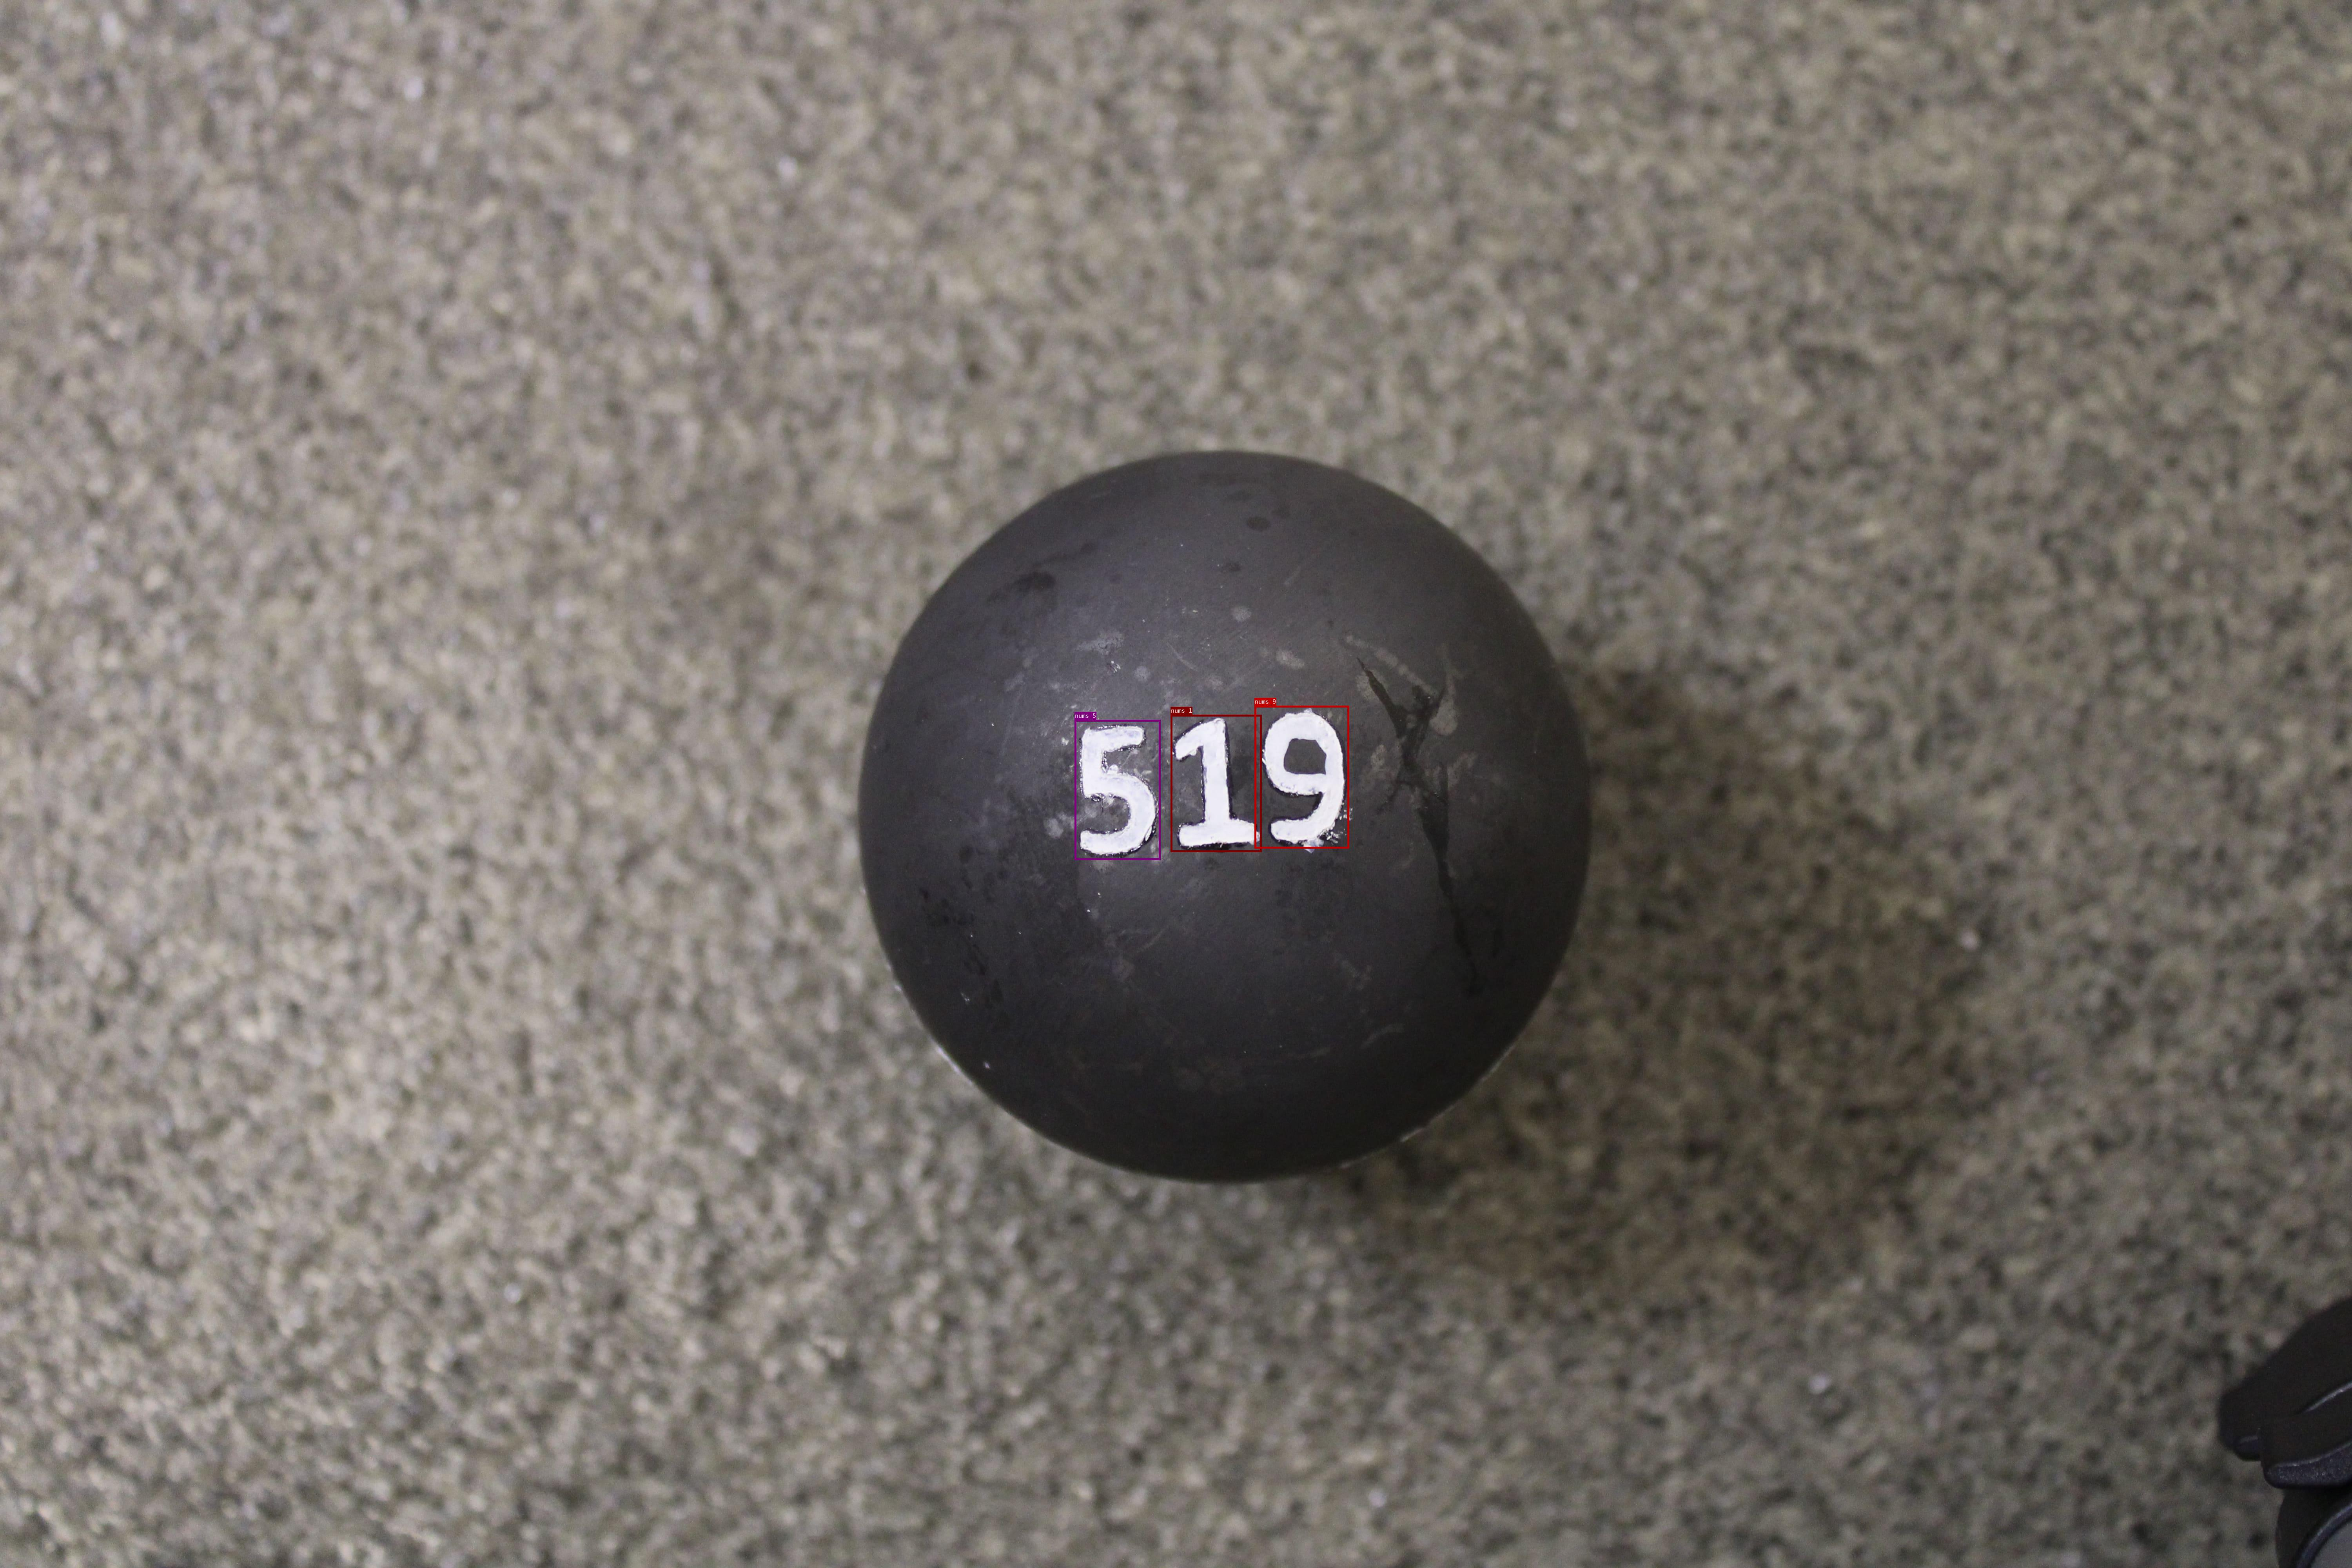nums_1: (1171, 714, 1262, 852)
nums_5: (1074, 719, 1160, 859)
nums_9: (1255, 705, 1349, 849)
